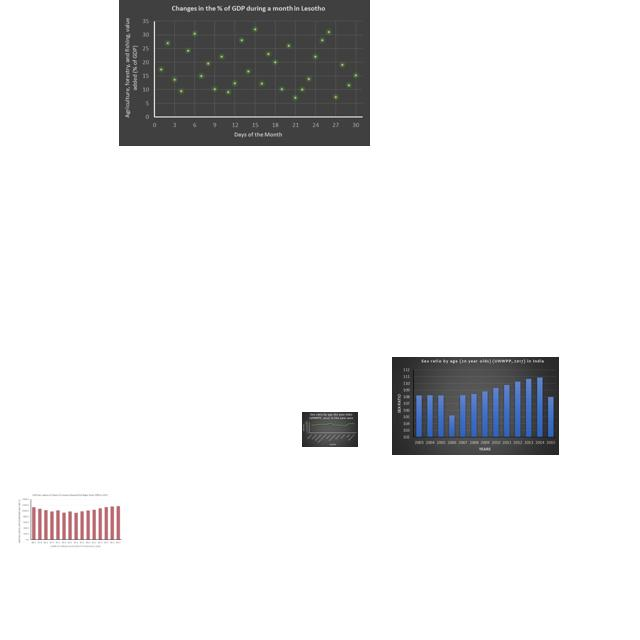Graph: (119, 0, 370, 146), (392, 357, 559, 455), (16, 492, 123, 550), (302, 412, 358, 447)
